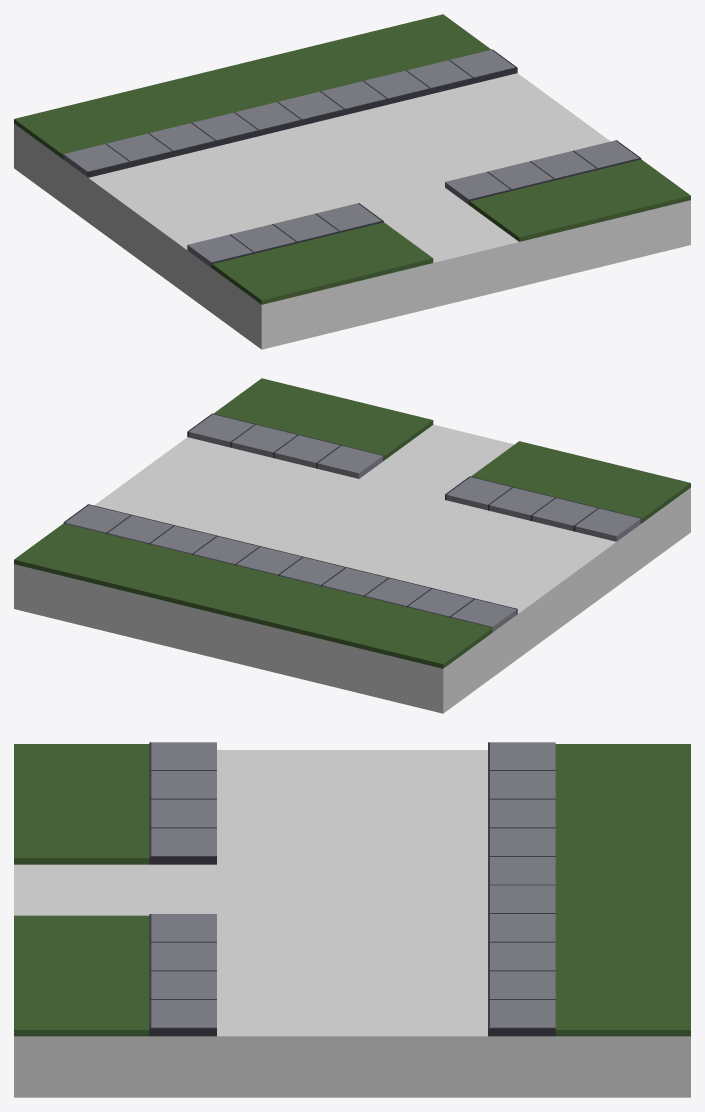
Rendered from Road2-driveway.fbx.
3 views of the same model, one above another, from view 1: azimuth 30°, elevation 25°; view 2: azimuth 150°, elevation 25°; view 3: azimuth 270°, elevation 25° (orthographic). The views are drawn at different scales.
Visible parts, largest first — view 1: Road, Plane.001, Sidewalk, Plane, Plane.004, Sidewalk.004, Sidewalk.005; view 2: Road, Plane.001, Sidewalk, Plane, Plane.004, Sidewalk.004, Sidewalk.005; view 3: Road, Plane.001, Sidewalk, Plane.004, Plane, Sidewalk.004, Sidewalk.005.
Boxes of the visible parts, x1=… form: Road: x1=14, y1=73, x2=690, y2=349; Plane.001: x1=14, y1=14, x2=490, y2=159; Sidewalk: x1=63, y1=49, x2=517, y2=177; Plane: x1=212, y1=222, x2=433, y2=304; Plane.004: x1=469, y1=159, x2=690, y2=241; Sidewalk.004: x1=187, y1=203, x2=383, y2=268; Sidewalk.005: x1=445, y1=140, x2=641, y2=205; Road: x1=14, y1=424, x2=690, y2=713; Plane.001: x1=14, y1=523, x2=492, y2=668; Sidewalk: x1=63, y1=504, x2=517, y2=632; Plane: x1=471, y1=441, x2=690, y2=523; Plane.004: x1=214, y1=378, x2=433, y2=460; Sidewalk.004: x1=445, y1=476, x2=641, y2=541; Sidewalk.005: x1=187, y1=413, x2=383, y2=478; Road: x1=14, y1=750, x2=690, y2=1097; Plane.001: x1=555, y1=744, x2=690, y2=1036; Sidewalk: x1=488, y1=742, x2=555, y2=1036; Plane.004: x1=14, y1=915, x2=149, y2=1036; Plane: x1=14, y1=744, x2=149, y2=864; Sidewalk.004: x1=149, y1=742, x2=216, y2=864; Sidewalk.005: x1=149, y1=914, x2=216, y2=1036.
Size of the model in its own units: 2000 by 225 by 2000.
3 materials, 2 textured.
